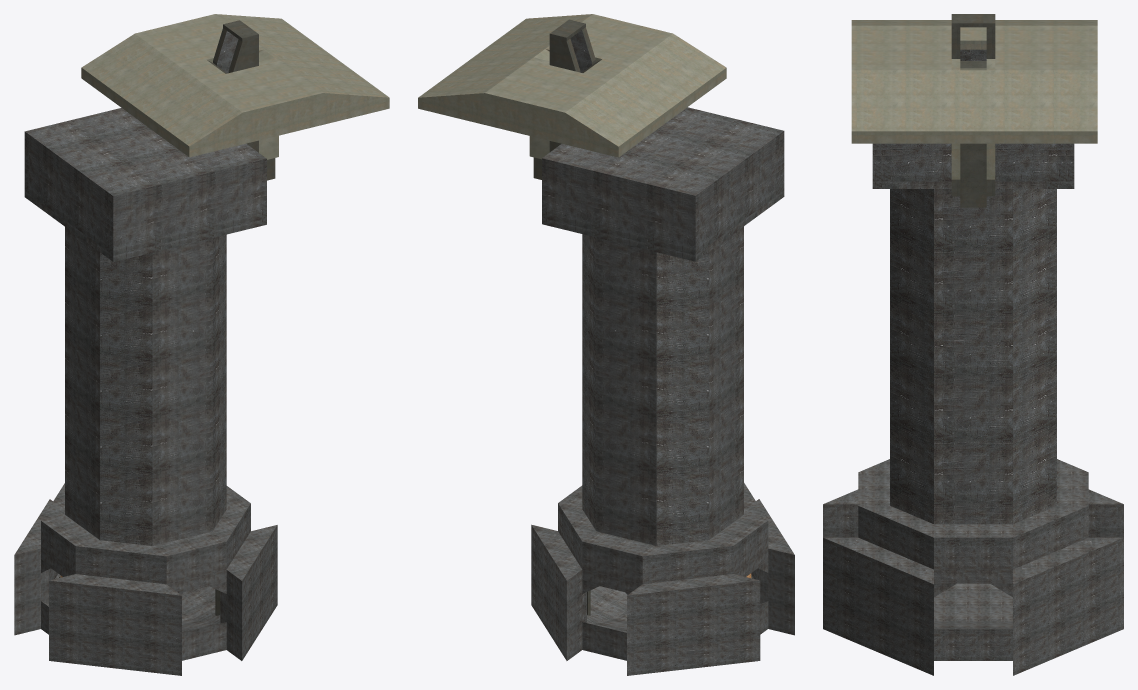
The model's file is mid_towerTunnel.fbx.
3 views of the same model, side by side, from view 1: azimuth 30°, elevation 25°; view 2: azimuth 150°, elevation 25°; view 3: azimuth 270°, elevation 25° (orthographic). The views are drawn at different scales.
Visible parts, largest first — view 1: Object; view 2: Object; view 3: Object.
Part boxes in pixels (bbox=[...]): Object: bbox=[14, 14, 389, 675]; Object: bbox=[418, 14, 794, 675]; Object: bbox=[823, 14, 1123, 675].
Bounding box in the file's own units: 9125 × 16250 × 6850.
